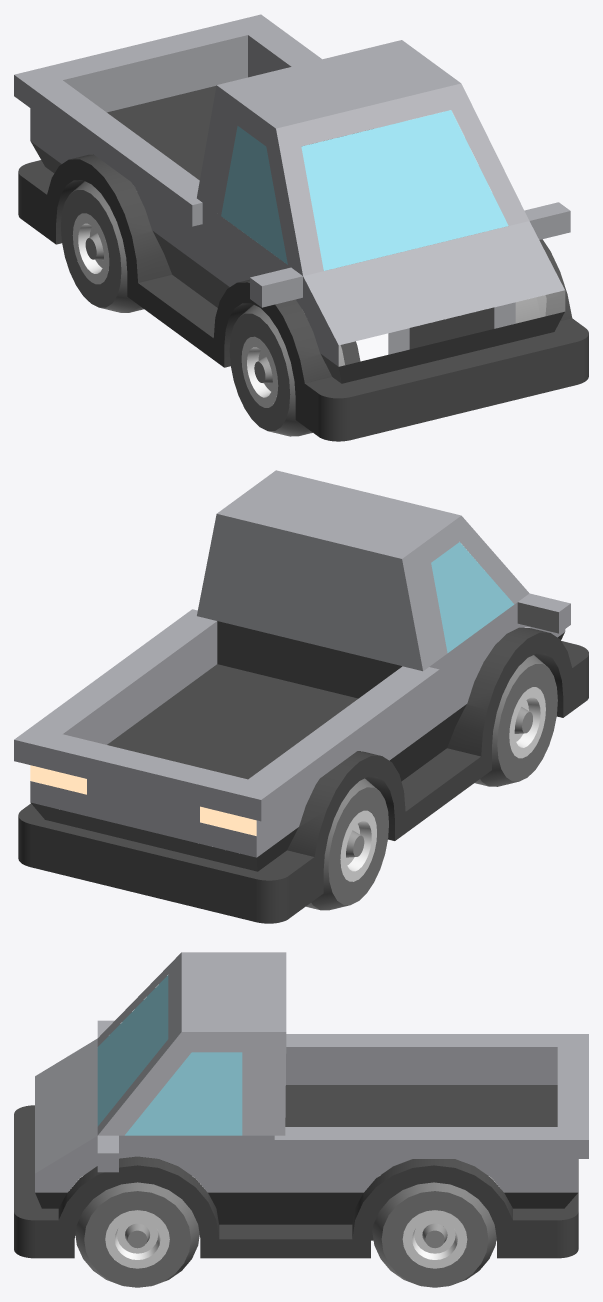
Rendered from truck-flat.glb.
3 renders of one model, top to bottom at view 1: azimuth 30°, elevation 25°; view 2: azimuth 150°, elevation 25°; view 3: azimuth 270°, elevation 25°, orthographic. The views are drawn at different scales.
Parts seen in each view (by area): view 1: body, wheel_frontRight, wheel_backRight, wheel_frontLeft; view 2: body, wheel_frontRight, wheel_backRight; view 3: body, wheel_frontLeft, wheel_backLeft.
Part boxes in pixels (box(x1,y1,x2,y2)): body: box(14, 14, 588, 441); wheel_frontRight: box(229, 304, 344, 436); wheel_backRight: box(61, 181, 143, 312); wheel_frontLeft: box(515, 295, 546, 323); body: box(14, 470, 588, 923); wheel_frontRight: box(475, 655, 557, 786); wheel_backRight: box(306, 778, 388, 910); body: box(14, 952, 588, 1258); wheel_frontLeft: box(75, 1182, 199, 1287); wheel_backLeft: box(372, 1182, 496, 1287).
Size of the model in its own units: 1.5 by 1.3 by 2.75.
